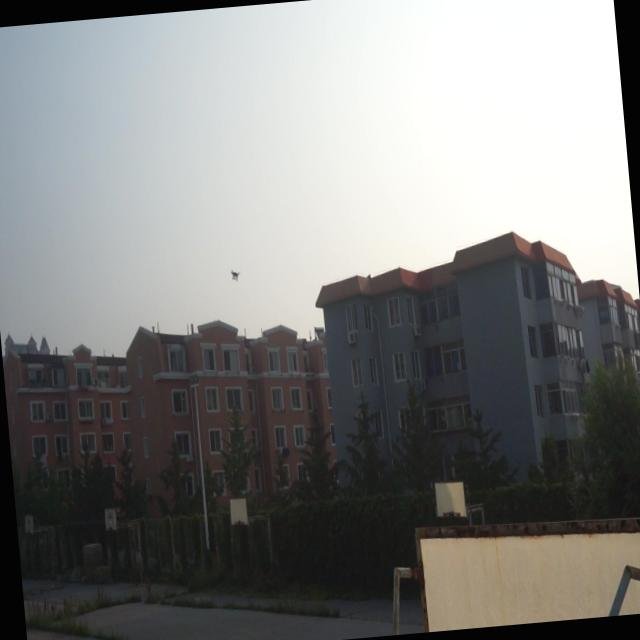drone: (228, 264, 244, 282)
